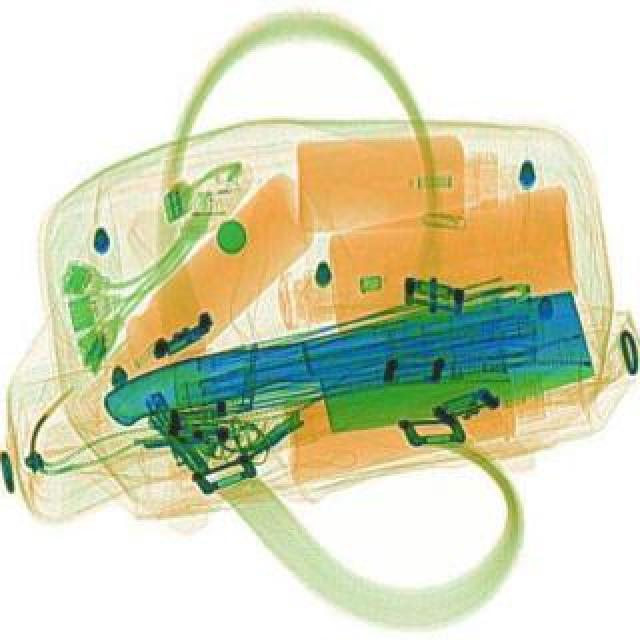knife: (96, 282, 596, 466)
